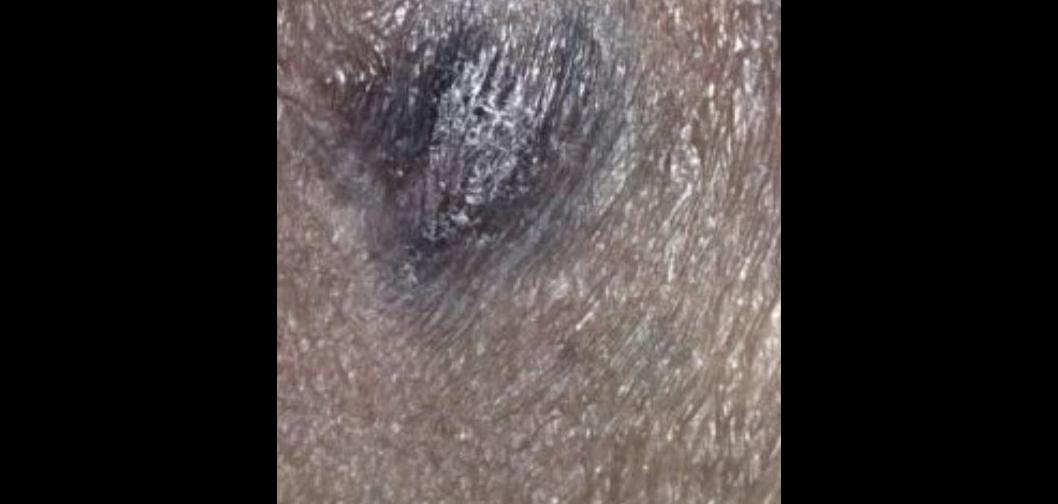Stage2: (315, 0, 623, 267)
